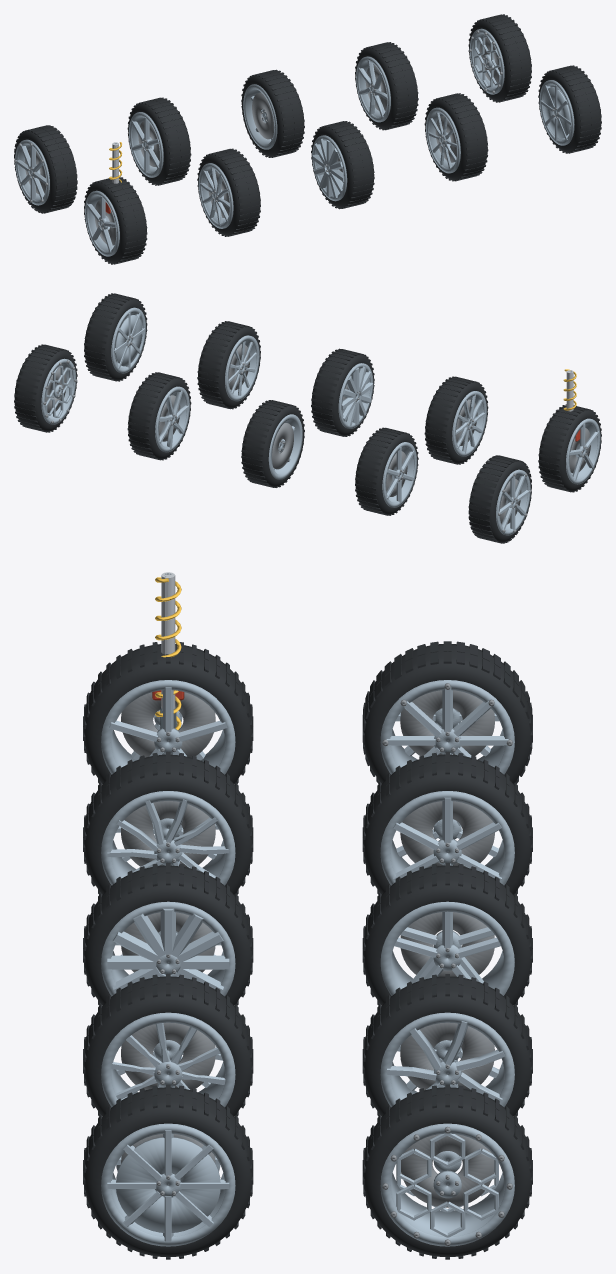
Rendered from AetherWheels-connection-test.glb.
The picture shows the model from 3 angles, top to bottom: view 1: azimuth 30°, elevation 25°; view 2: azimuth 150°, elevation 25°; view 3: azimuth 270°, elevation 25°; orthographic projection. The views are drawn at different scales.
Visible parts, largest first — view 1: Tire sidewall.007, Tire sidewall.002, Tire sidewall.008, Tire sidewall.006, Tire sidewall.001, Tire sidewall.004, Tire sidewall.003, Tire sidewall.009, Tire sidewall, Tire sidewall.005, Wheel barrel.007, Wheel rally cover (+18 smaller); view 2: Tire sidewall.007, Tire sidewall.003, Tire sidewall.008, Tire sidewall.004, Tire sidewall.002, Tire sidewall.001, Tire sidewall.006, Tire sidewall.009, Tire sidewall, Tire sidewall.005, Wheel barrel.007, Wheel rally cover (+17 smaller); view 3: Tire sidewall.009, Tire sidewall.004, Tire sidewall.007, Tire sidewall.002, Tire sidewall.006, Tire sidewall.001, Tire sidewall.008, Tire sidewall.003, Tire sidewall, Tire sidewall.005, Wheel rally cover.001, Wheel polished lip.009 (+28 smaller).
Part boxes in pixels (box(x1,y1,x2,y2)): Tire sidewall.007: box(241, 71, 304, 156); Tire sidewall.002: box(311, 122, 374, 207); Tire sidewall.008: box(355, 43, 417, 129); Tire sidewall.006: box(128, 99, 190, 184); Tire sidewall.001: box(198, 150, 260, 235); Tire sidewall.004: box(539, 66, 601, 152); Tire sidewall.003: box(425, 94, 487, 180); Tire sidewall.009: box(469, 15, 531, 101); Tire sidewall: box(84, 178, 146, 263); Tire sidewall.005: box(14, 126, 76, 212); Wheel barrel.007: box(243, 84, 277, 149); Wheel rally cover: box(543, 87, 570, 138); Tire sidewall.007: box(241, 401, 304, 486); Tire sidewall.003: box(198, 322, 260, 407); Tire sidewall.008: box(128, 373, 190, 459); Tire sidewall.004: box(84, 294, 146, 380); Tire sidewall.002: box(311, 350, 374, 435); Tire sidewall.001: box(425, 378, 487, 463); Tire sidewall.006: box(355, 429, 417, 514); Tire sidewall.009: box(14, 345, 76, 431); Tire sidewall: box(539, 406, 601, 491); Tire sidewall.005: box(469, 457, 531, 542); Wheel barrel.007: box(268, 414, 302, 479); Wheel rally cover: box(115, 315, 142, 366); Tire sidewall.009: box(363, 1087, 532, 1257); Tire sidewall.004: box(83, 1087, 252, 1257); Tire sidewall.007: box(363, 865, 532, 1005); Tire sidewall.002: box(83, 865, 252, 1005); Tire sidewall.006: box(363, 754, 532, 894); Tire sidewall.001: box(83, 754, 252, 894); Tire sidewall.008: box(363, 976, 532, 1116); Tire sidewall.003: box(83, 976, 252, 1116); Tire sidewall: box(83, 644, 252, 783); Tire sidewall.005: box(363, 644, 531, 783); Wheel rally cover.001: box(116, 1137, 220, 1232); Wheel polished lip.009: box(101, 1124, 235, 1246).
Size of the model in its own units: 6.62 by 1.51 by 2.66.
